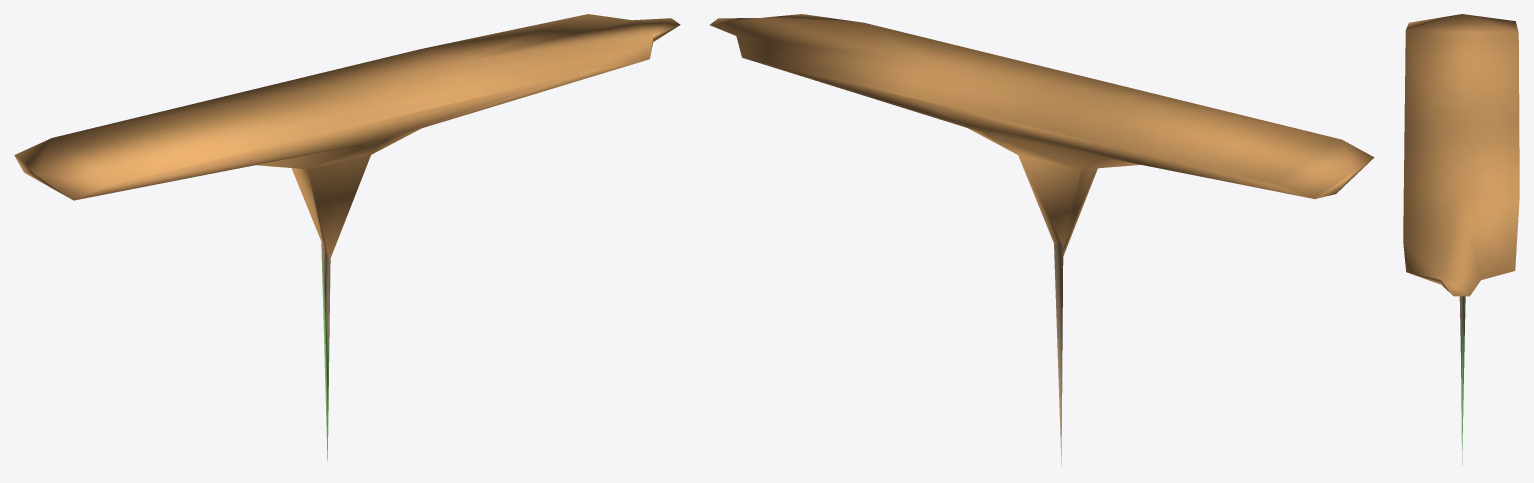
Rendered from flower_patch.glb.
3 renders of one model, left to right at view 1: azimuth 30°, elevation 25°; view 2: azimuth 150°, elevation 25°; view 3: azimuth 270°, elevation 25°, orthographic. The views are drawn at different scales.
Visible parts, largest first — view 1: lod0; view 2: lod0; view 3: lod0.
Boxes of the visible parts, bbox=[...] form: lod0: bbox=[14, 14, 680, 461]; lod0: bbox=[710, 14, 1374, 466]; lod0: bbox=[1403, 14, 1519, 465].
Size of the model in its own units: 0.7548 by 0.4234 by 0.1331.
1 material, 1 textured.
